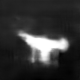plane: (15, 29, 70, 67)
